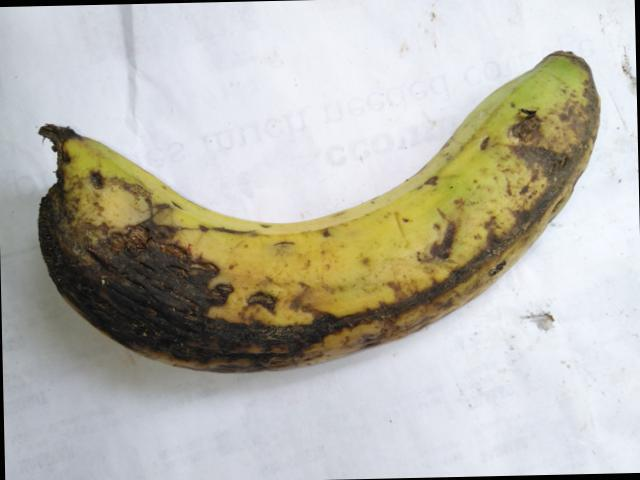rotten: (22, 114, 590, 392)
